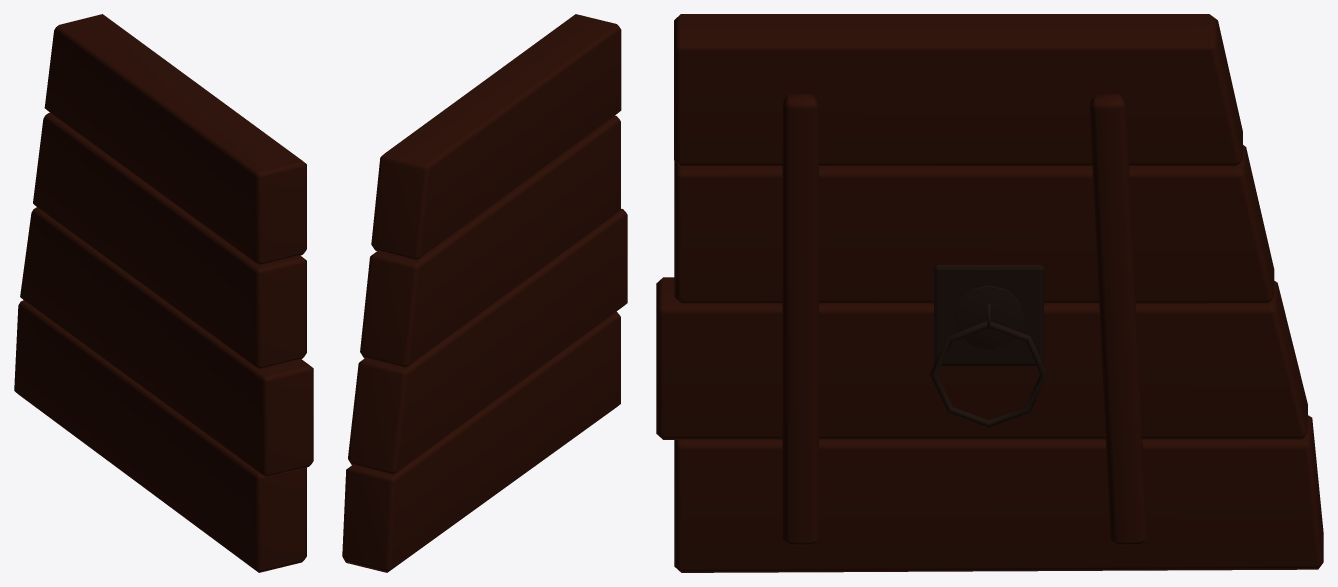
Rendered from luke.obj.
3 views of the same model, side by side, from view 1: azimuth 30°, elevation 25°; view 2: azimuth 150°, elevation 25°; view 3: azimuth 270°, elevation 25° (orthographic). The views are drawn at different scales.
Visible parts, largest first — view 1: luke1; view 2: luke1; view 3: luke1.
Part boxes in pixels (x1,y1,x2,y2): luke1: (14, 14, 313, 572); luke1: (342, 14, 627, 572); luke1: (656, 14, 1323, 572).
Bounding box in the file's own units: 0.8215 × 4.44 × 5.05.
